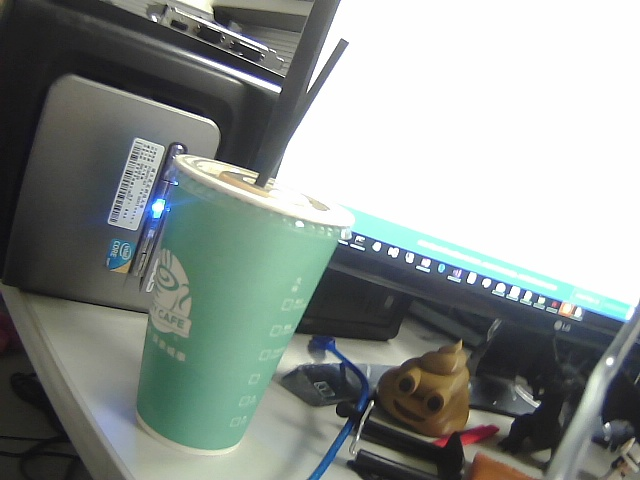beverage: (135, 28, 365, 470)
